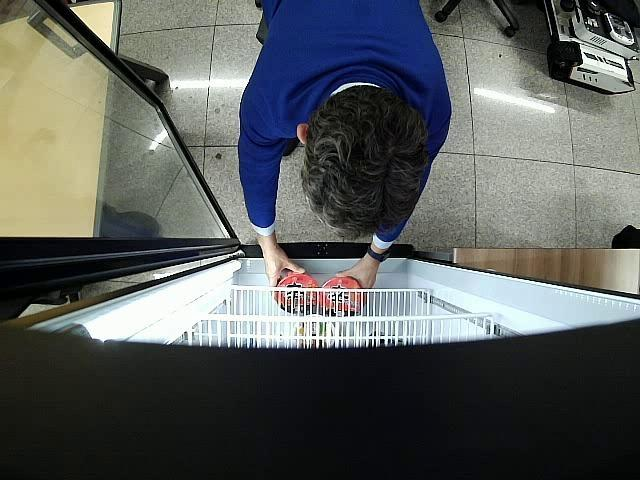01_ShinRamen_L: (274, 271, 320, 315), (321, 275, 366, 316)
